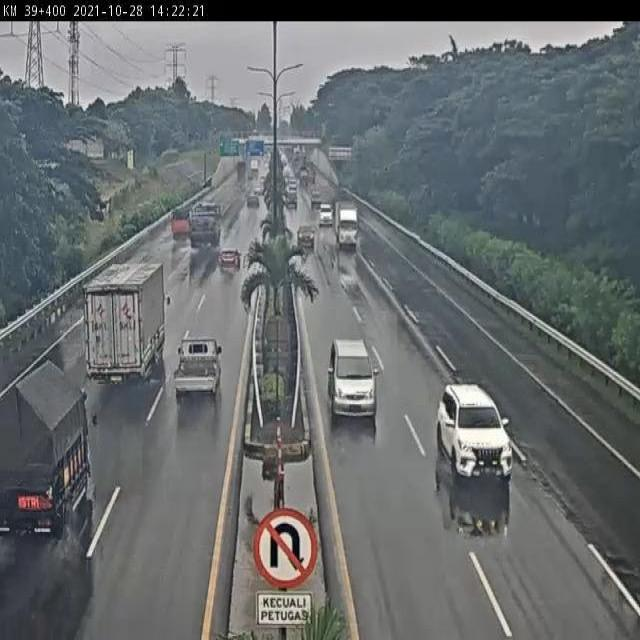car: (432, 377, 518, 488), (326, 332, 379, 423), (171, 329, 225, 404), (215, 247, 243, 276), (296, 223, 317, 248)
truck-l-: (82, 260, 170, 385), (187, 201, 223, 252)
truck-m-: (0, 356, 89, 540)
truck-s-: (331, 199, 361, 249), (171, 208, 192, 236)
